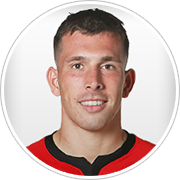face: (42, 40, 138, 125)
